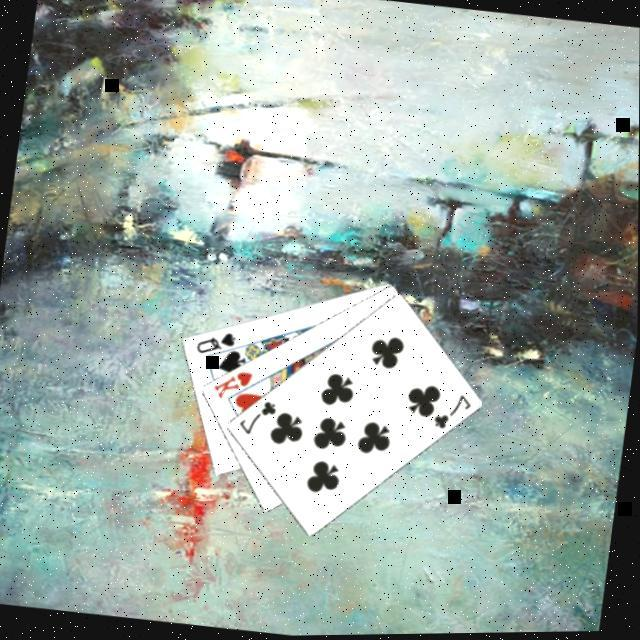7C: (430, 388, 478, 436), (236, 392, 283, 440)
KH: (210, 363, 258, 405)
QS: (194, 324, 242, 360)
